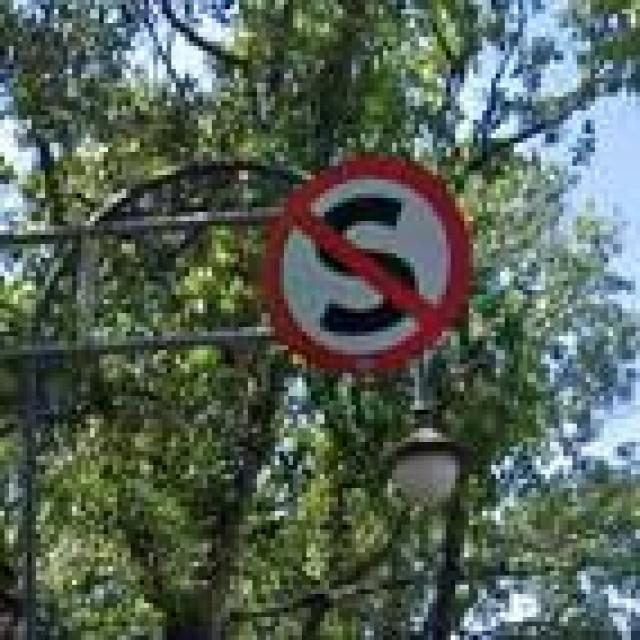traffic sign: (262, 156, 474, 372)
